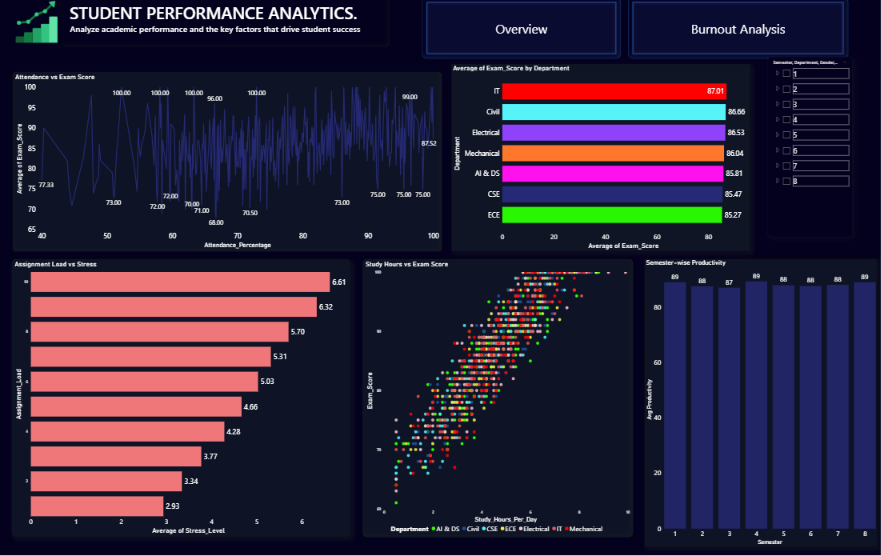

What the dashboard file says about the page in this screenshot:
{"tool":"powerbi","page":{"name":"Performance Analytics","canvas":[2850,1800],"ordinal":2},"visuals":[{"type":"textbox","box":[203.1,0,1059.4,162.5],"z":0},{"type":"scatterChart","title":"Study Hours vs Exam Score","fields":{"X":["Students.Study_Hours_Per_Day"],"Y":["Students.Exam_Score"],"Series":["Students.Department"]},"box":[1171.9,840.6,875,900],"z":1000},{"type":"lineChart","title":"Attendance vs Exam Score","fields":{"Category":["Students.Attendance_Percentage"],"Y":["Avg(Students.Exam_Score)"]},"box":[40.6,237.5,1387.5,581.2],"z":2000},{"type":"clusteredBarChart","title":"Assignment Load vs Stress","fields":{"Category":["Students.Assignment_Load"],"Y":["Avg(Students.Stress_Level)"]},"box":[37.5,840.6,1096.9,900],"z":3000},{"type":"clusteredBarChart","fields":{"Category":["Students.Department"],"Y":["Avg(Students.Exam_Score)"]},"box":[1459.4,212.5,965.6,606.2],"z":4000},{"type":"clusteredColumnChart","title":"Semester-wise Productivity","fields":{"Category":["Students.Semester"],"Y":["Students.Avg Productivity"]},"box":[2081.2,840.6,753.1,931.2],"z":5000},{"type":"image","box":[0,0,241.4,162.1],"z":7000},{"type":"actionButton","box":[1365.6,0,640.6,196.9],"z":7001},{"type":"actionButton","box":[2028.1,0,709.4,196.9],"z":7002},{"type":"slicer","fields":{"Values":["Students.Semester","Students.Department","Students.Gender","Students.Burnout_Risk"]},"box":[2478.1,190.6,275,581.2],"z":7003}]}

Visuals, with their boxes in screenshot pixels (x1, y1, x2, y2), scaled from the page's 2850x1800 canvas onto the 881x556 screenshot:
textbox: 63/0/390/50
"Study Hours vs Exam Score" scatterChart: 362/260/633/538
"Attendance vs Exam Score" lineChart: 13/73/441/253
"Assignment Load vs Stress" clusteredBarChart: 12/260/351/538
clusteredBarChart - Students.Department x Avg(Students.Exam_Score): 451/66/750/253
"Semester-wise Productivity" clusteredColumnChart: 643/260/876/547
image: 0/0/75/50
actionButton: 422/0/620/61
actionButton: 627/0/846/61
slicer - Students.Semester x Students.Department: 766/59/851/238
